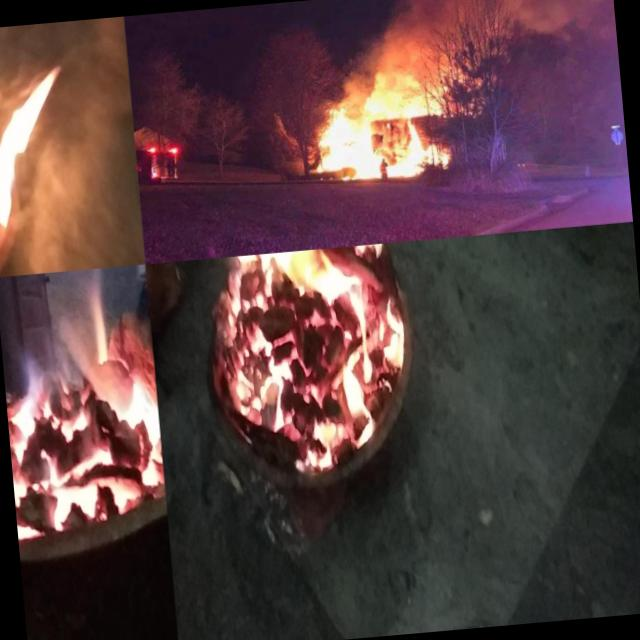fire: (209, 242, 410, 493), (0, 268, 169, 550), (0, 22, 73, 277), (308, 74, 444, 180)
smoke: (337, 0, 434, 81)
